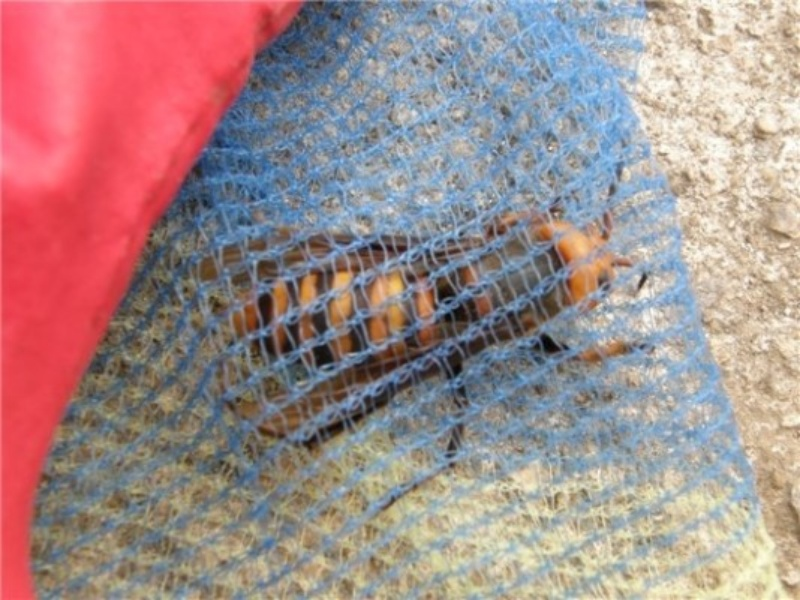asian_giant_hornet: (216, 182, 653, 450)
